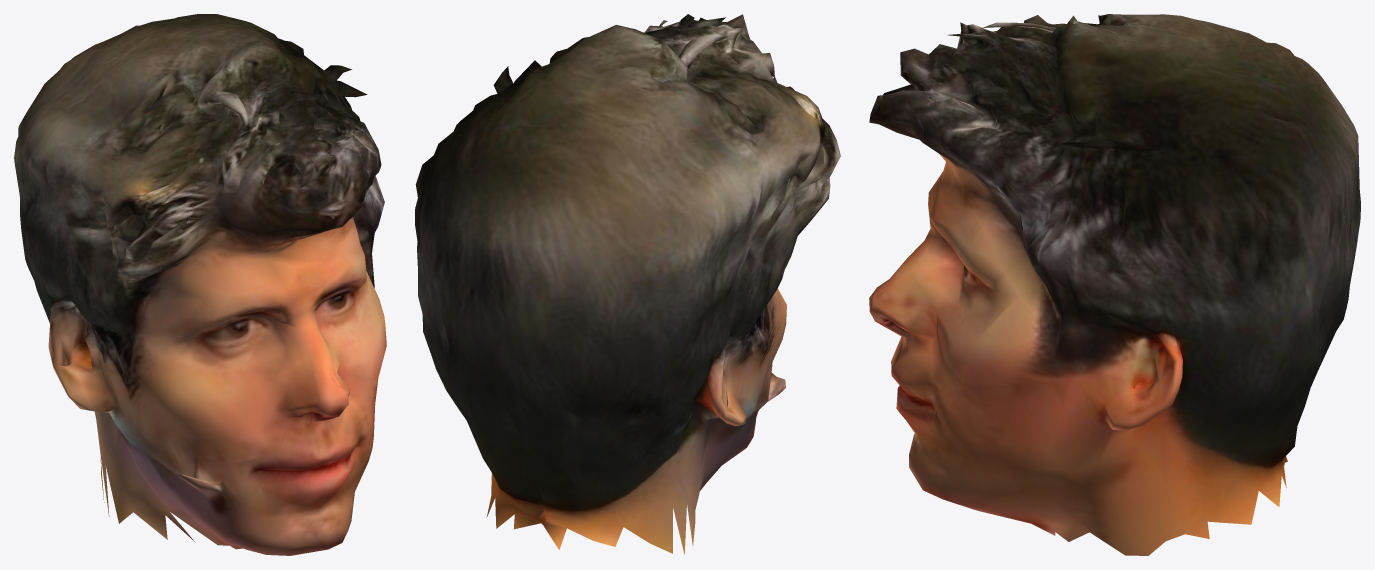
Rendered from sam-head.glb.
The picture shows the model from 3 angles, left to right: view 1: azimuth 30°, elevation 25°; view 2: azimuth 150°, elevation 25°; view 3: azimuth 270°, elevation 25°; orthographic projection. The views are drawn at different scales.
Visible parts, largest first — view 1: sam_head; view 2: sam_head; view 3: sam_head.
Boxes of the visible parts, x1,y1,x2,y2 form: sam_head: [14, 14, 386, 555]; sam_head: [415, 14, 840, 554]; sam_head: [869, 14, 1360, 555].
Size of the model in its own units: 0.6726 by 1 by 0.8772.
Materials: 1 (1 with a texture image).
